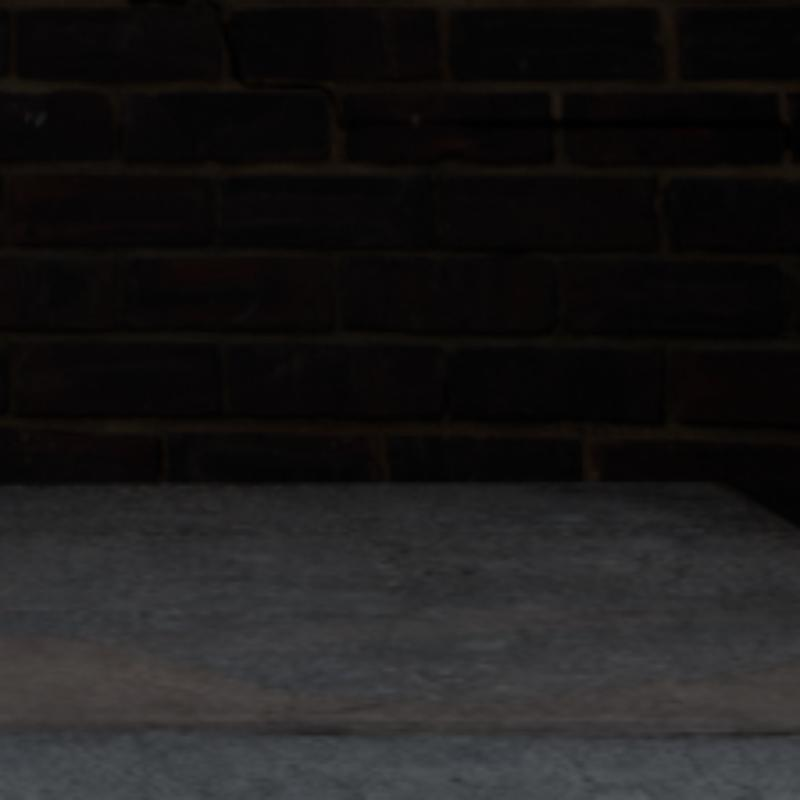pothole: (232, 64, 796, 150), (129, 0, 230, 51)
